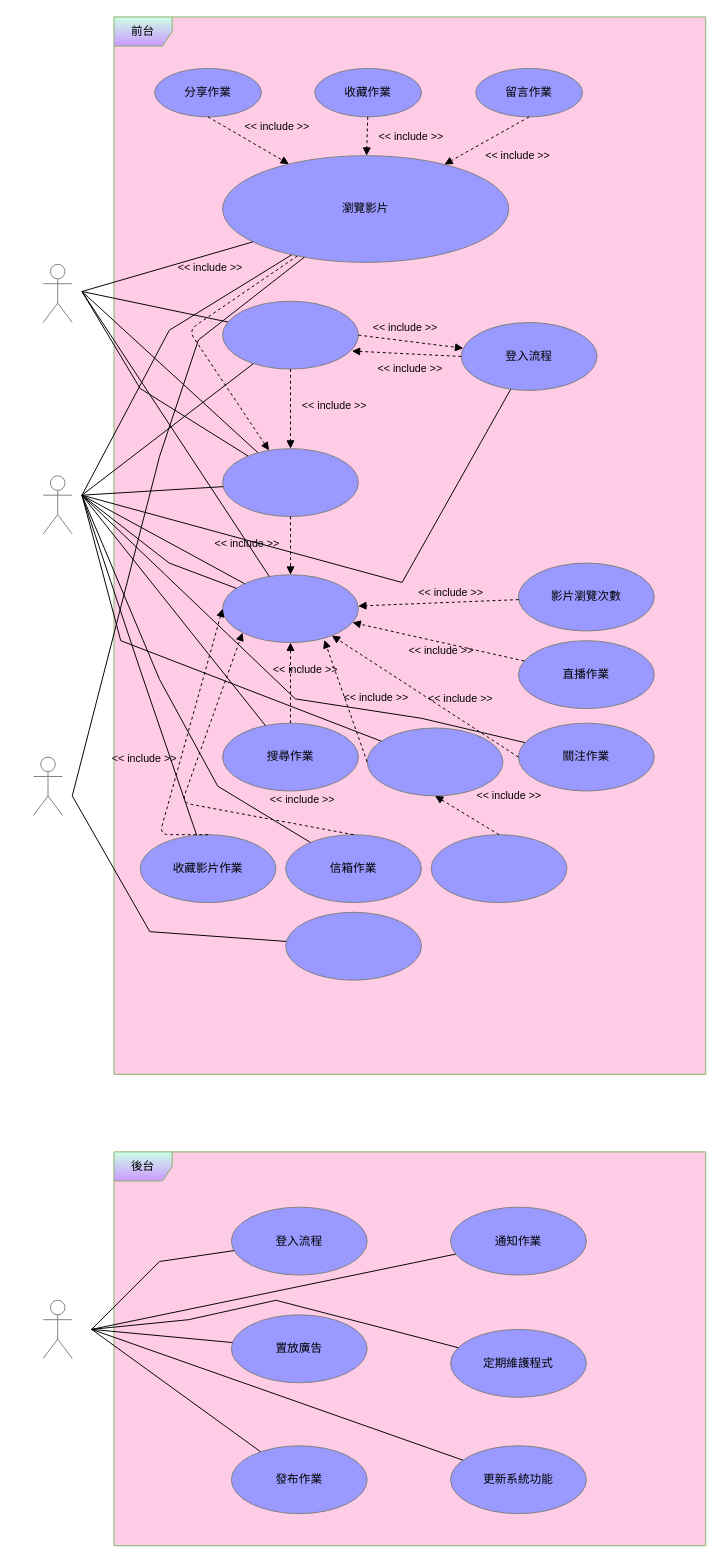
This 723x1563 diagram has some shape labels left out. Each missing label, with the centre of its shape:
"TikToker" belongs at point (57, 504).
"一般使用者" belongs at point (57, 293).
"個人資料作業" belongs at point (290, 608).
"回報問題" belongs at point (353, 945).
"基本資料作業" belongs at point (290, 482).
"官方人員" belongs at point (47, 785).
"探索作業" belongs at point (498, 868).
"程式維護工程師" belongs at point (57, 1328).
"粉絲作業" belongs at point (434, 761).
"註冊流程" belongs at point (290, 334).
